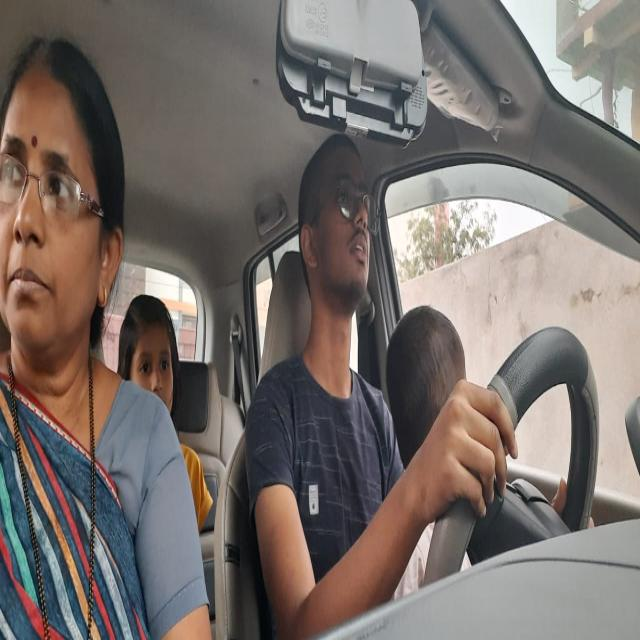child: (384, 297, 469, 469)
person: (0, 26, 130, 398), (294, 124, 382, 334), (118, 282, 192, 414)
